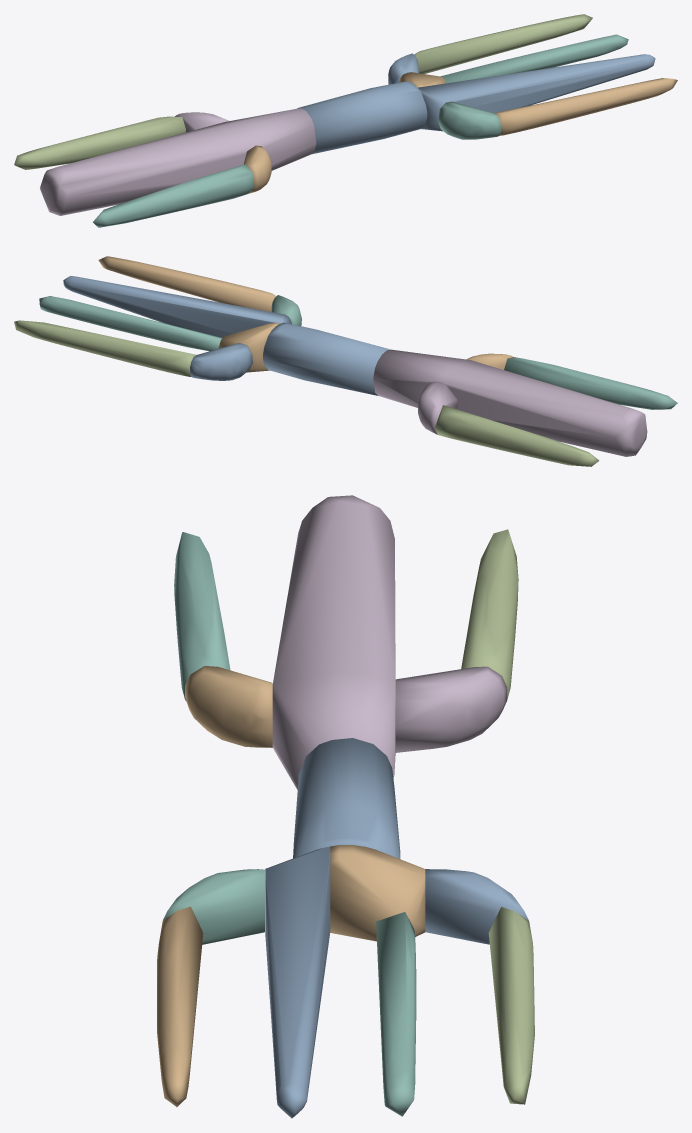
3 renders of one model, top to bottom at view 1: azimuth 30°, elevation 25°; view 2: azimuth 150°, elevation 25°; view 3: azimuth 270°, elevation 25°, orthographic. The views are drawn at different scales.
Bounding box in the file's own units: 1.96 × 0.1482 × 0.5455.
